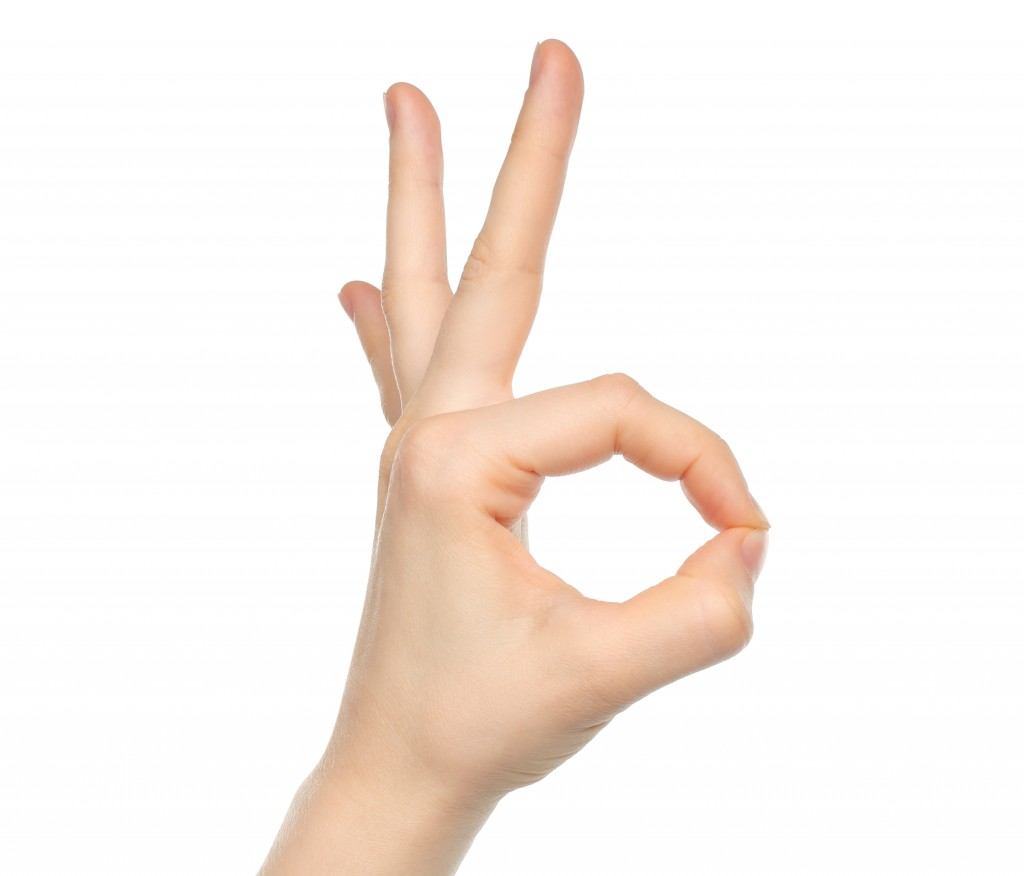oksign: (332, 86, 772, 771)
